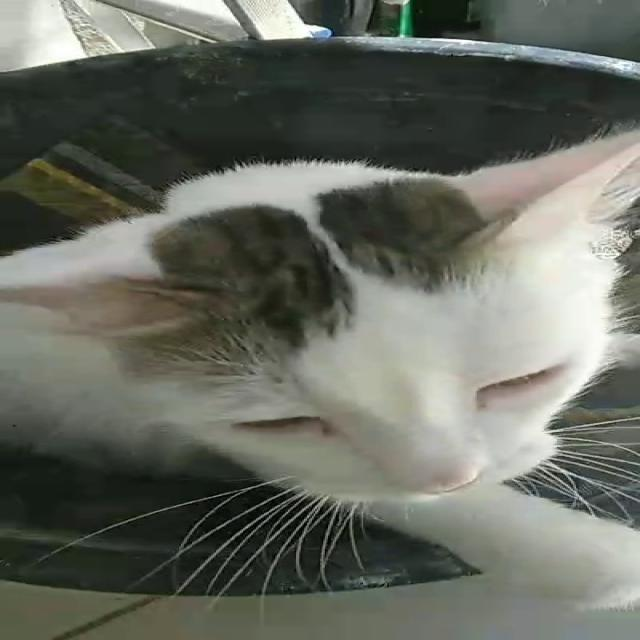Simba: (73, 107, 638, 639)
